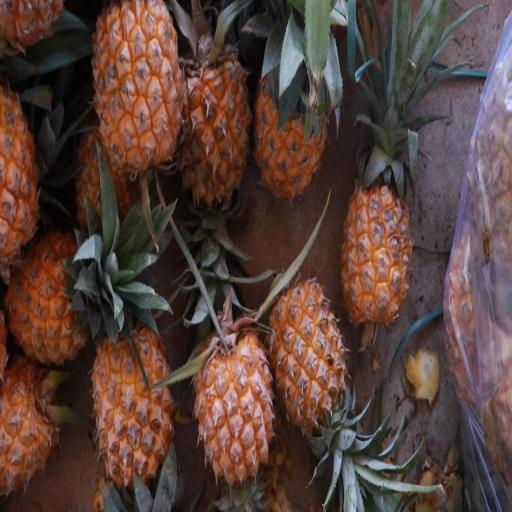Pineapple - v8 v1: (7, 220, 134, 368), (96, 0, 190, 198), (87, 314, 178, 512), (265, 272, 352, 465), (177, 13, 255, 210), (338, 142, 417, 332), (190, 313, 276, 487), (250, 31, 330, 206), (0, 74, 53, 280), (0, 353, 71, 505)
